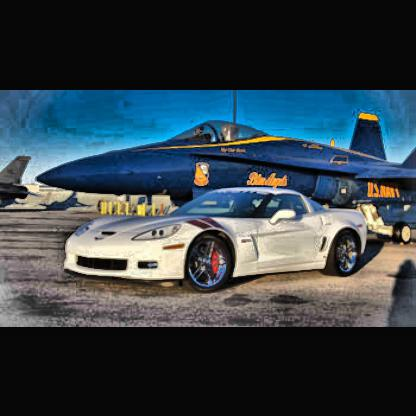Chevrolet Corvette Ron Fellows Edition Z06 2007: (64, 185, 369, 297)
